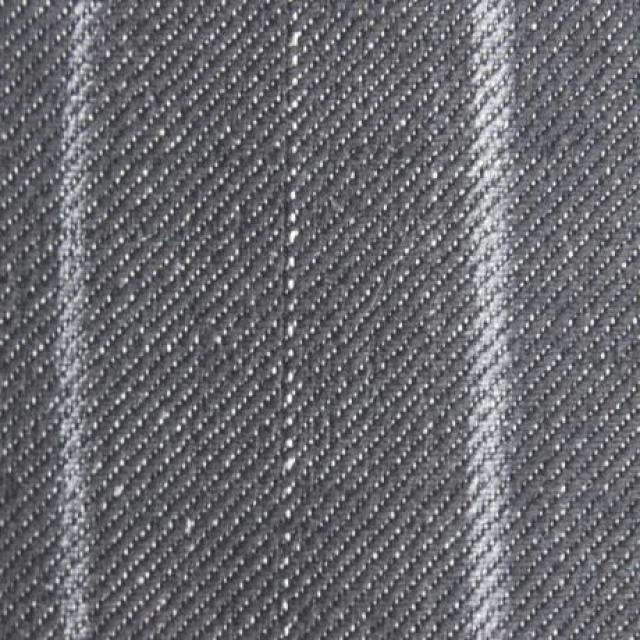stains: (216, 11, 358, 640)
